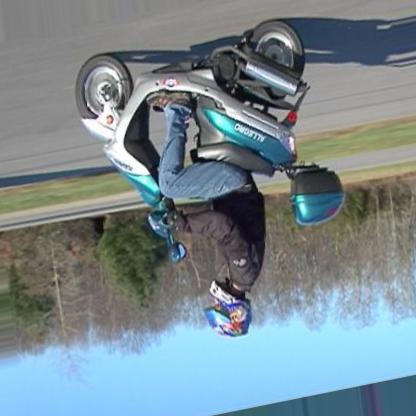with helmet: (204, 279, 255, 339)
